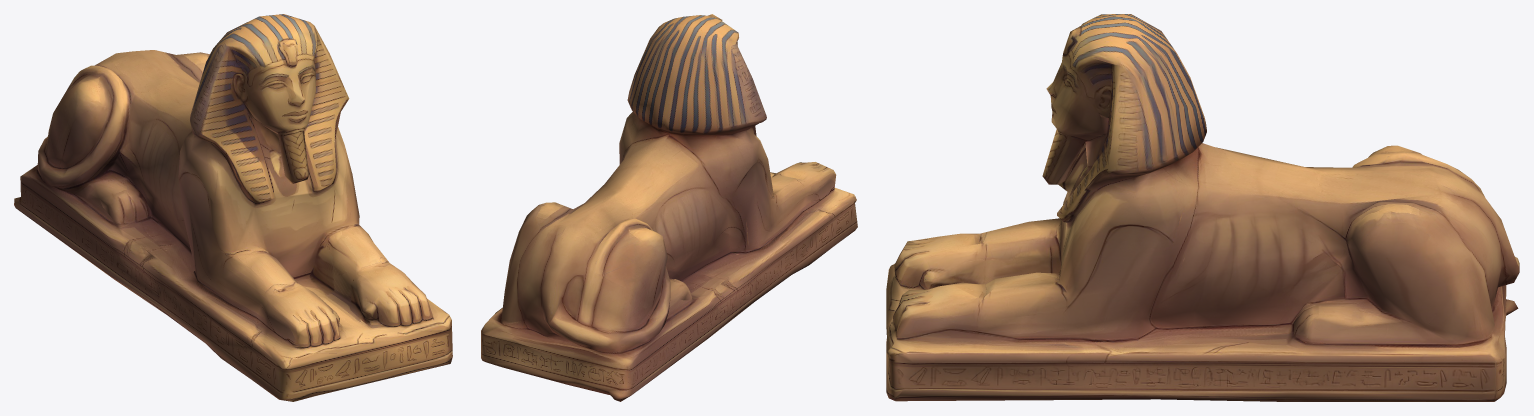
Rendered from sphinx_small.glb.
3 renders of one model, left to right at view 1: azimuth 30°, elevation 25°; view 2: azimuth 150°, elevation 25°; view 3: azimuth 270°, elevation 25°, orthographic. The views are drawn at different scales.
Visible parts, largest first — view 1: sphinx_small; view 2: sphinx_small; view 3: sphinx_small.
Part boxes in pixels (bbox=[...]): sphinx_small: bbox=[14, 14, 452, 401]; sphinx_small: bbox=[481, 14, 857, 401]; sphinx_small: bbox=[886, 14, 1519, 401].
Bounding box in the file's own units: 0.7066 × 1.12 × 1.91.
1 material, 1 textured.
